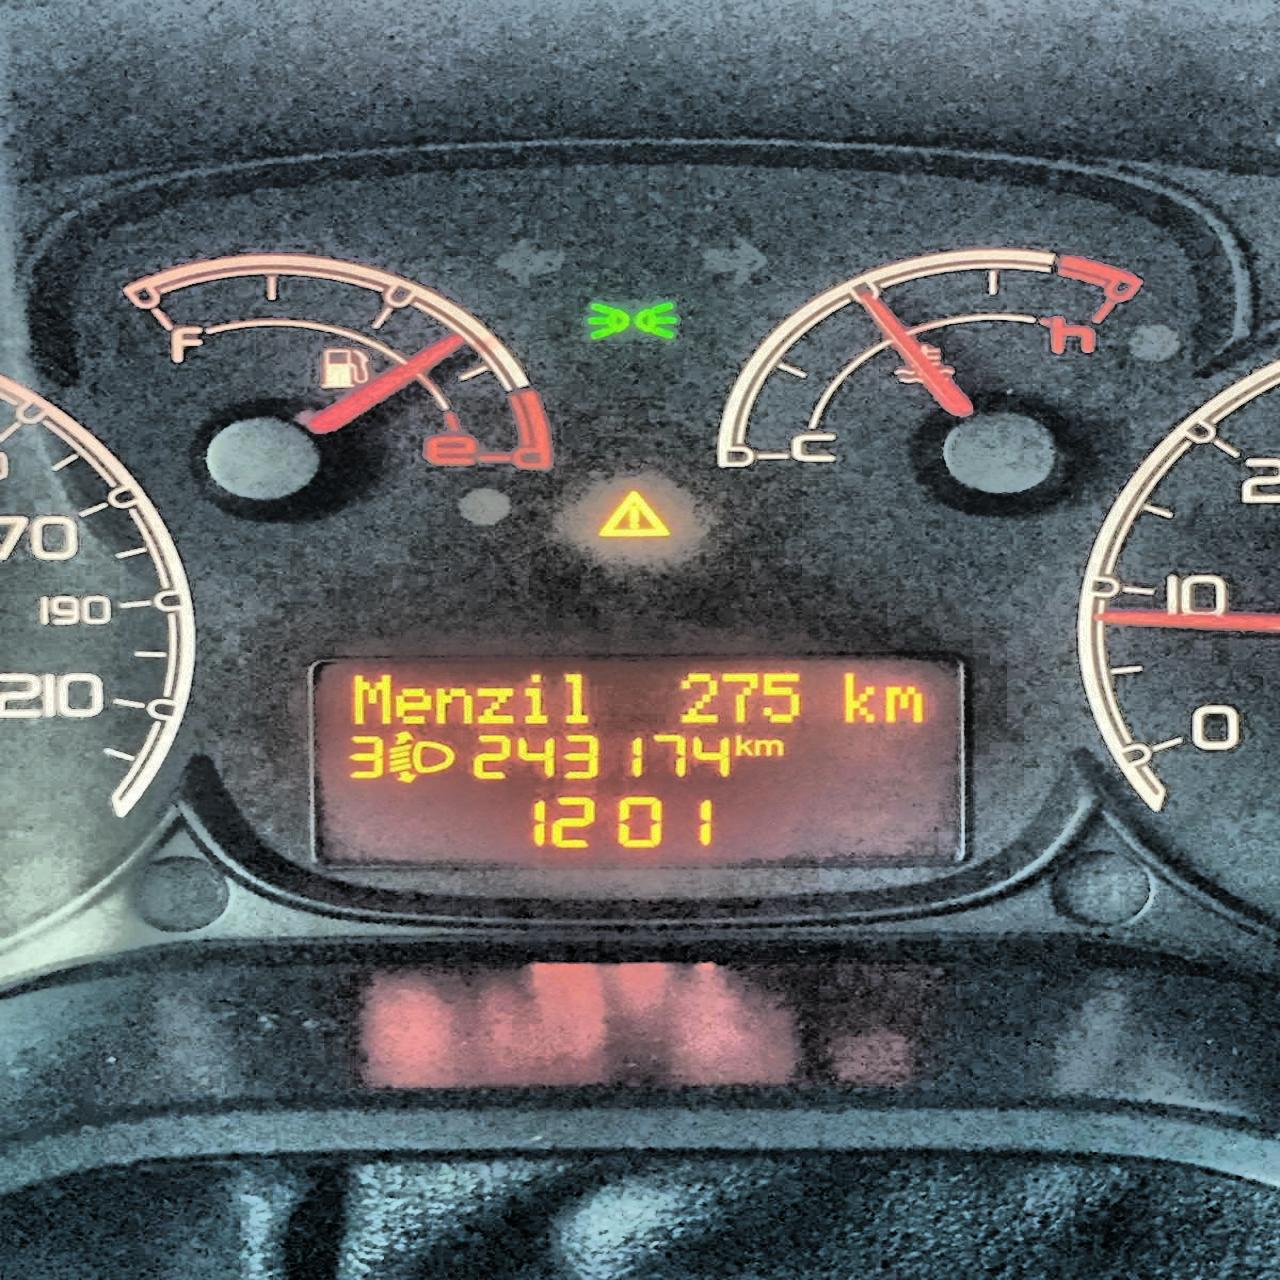0: (614, 794, 665, 851)
1: (689, 795, 721, 849), (529, 795, 549, 846), (627, 733, 646, 777)
2: (549, 796, 595, 851), (676, 673, 722, 726), (470, 731, 511, 779)
3: (348, 731, 386, 778), (560, 734, 598, 779)
4: (516, 733, 556, 778), (689, 736, 730, 778)
5: (760, 669, 804, 726)
7: (722, 670, 760, 724), (651, 733, 688, 777)
X: (349, 672, 392, 726), (843, 669, 878, 723), (561, 669, 591, 727), (475, 686, 516, 724), (434, 686, 474, 724), (884, 685, 922, 722), (394, 686, 434, 722), (520, 674, 544, 727), (734, 731, 756, 758), (754, 737, 783, 756)
odometer: (305, 652, 971, 871)
